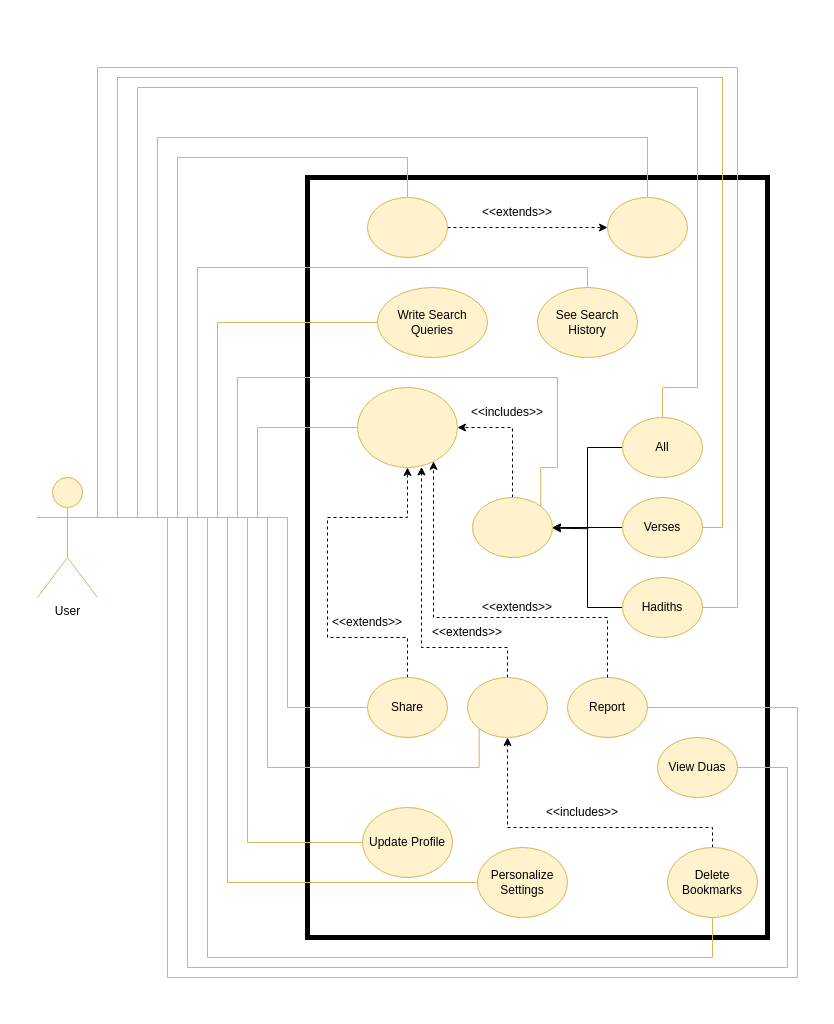
This 834x1024 diagram has some shape labels left out. The centre of each missing label's shape, as x and y in pixels:
"Bookmark" goes at point 507,707.
"Filter Results" goes at point 512,527.
"Login" goes at point 407,227.
"Register" goes at point 647,227.
"See Search Results" goes at point 407,427.
